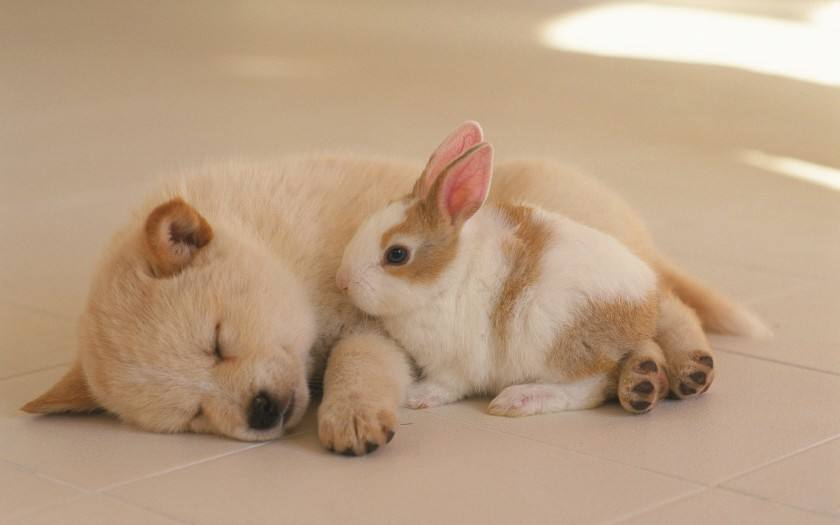dog: (53, 132, 727, 447)
rabbit: (340, 147, 715, 429)
